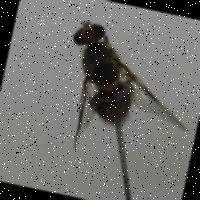Oriental-fruit-fly: (45, 15, 200, 172)
